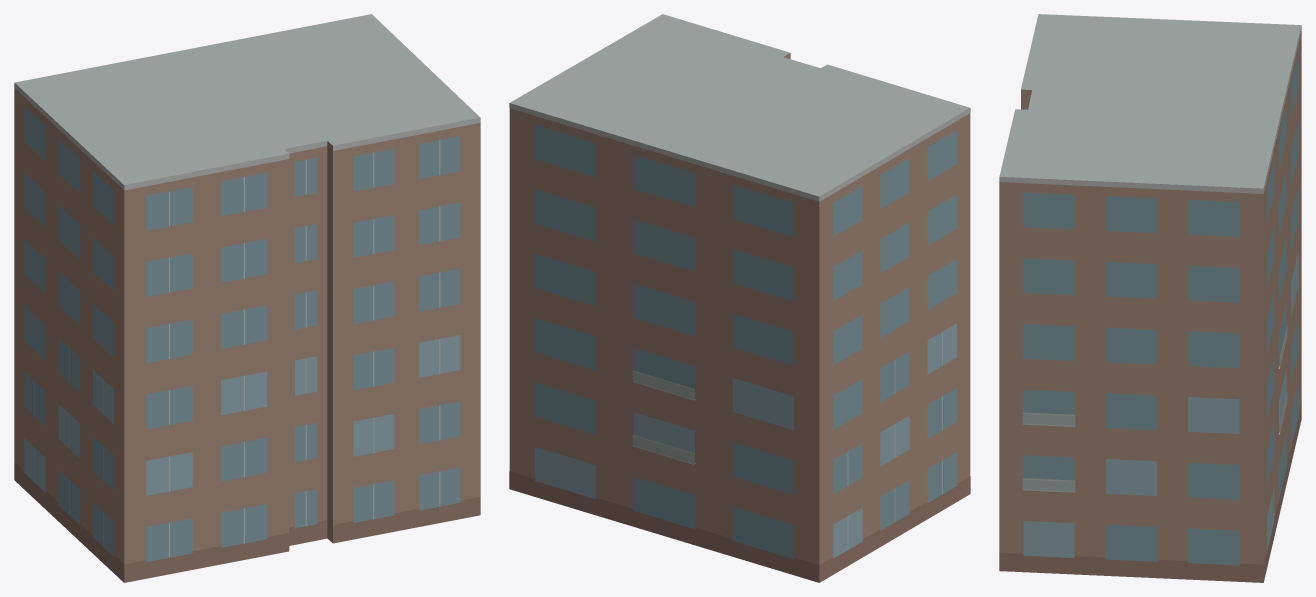
File: survey-upis-32661510.glb
3 views of the same model, side by side, from view 1: azimuth 30°, elevation 25°; view 2: azimuth 150°, elevation 25°; view 3: azimuth 270°, elevation 25° (orthographic). The views are drawn at different scales.
Visible parts, largest first — view 1: survey-upis-32661510.tmp; view 2: survey-upis-32661510.tmp; view 3: survey-upis-32661510.tmp.
Part boxes in pixels (x1,y1,x2,y2): survey-upis-32661510.tmp: (14,14,480,582); survey-upis-32661510.tmp: (509,14,970,582); survey-upis-32661510.tmp: (999,14,1301,582).
Size of the model in its own units: 17.4 by 18.3 by 12.72.
